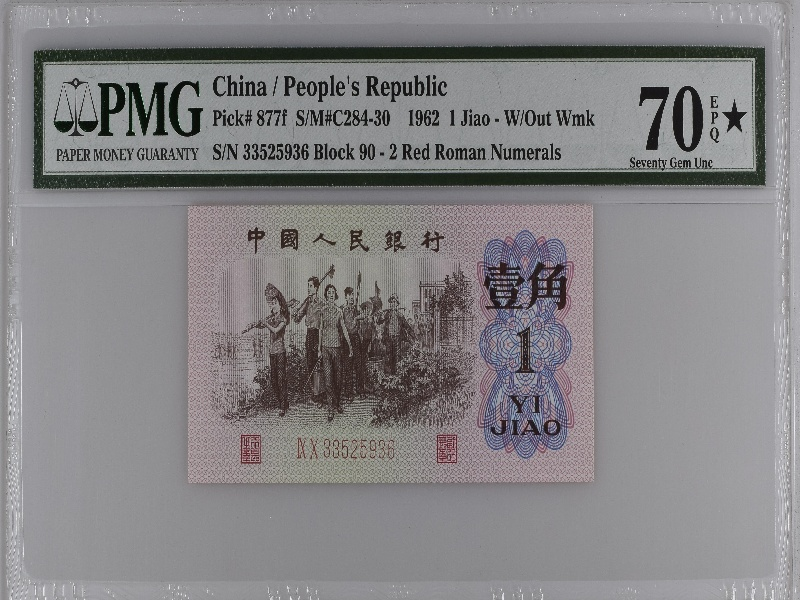papernote: (184, 203, 598, 486)
